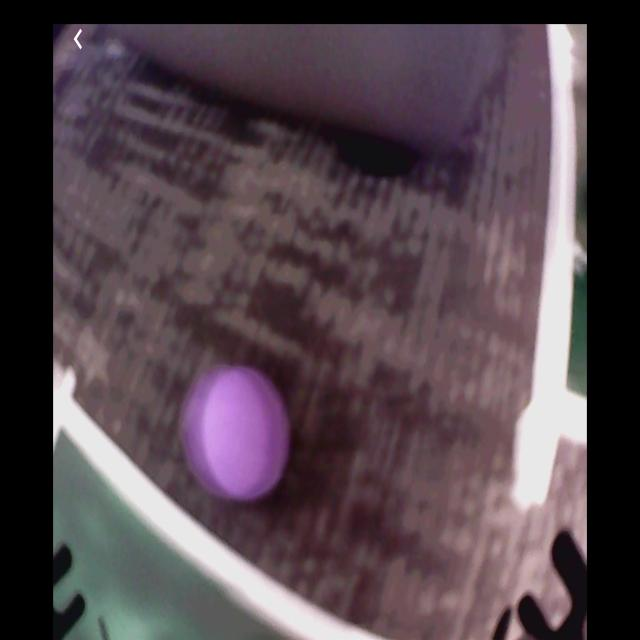ball: (203, 368, 288, 503)
